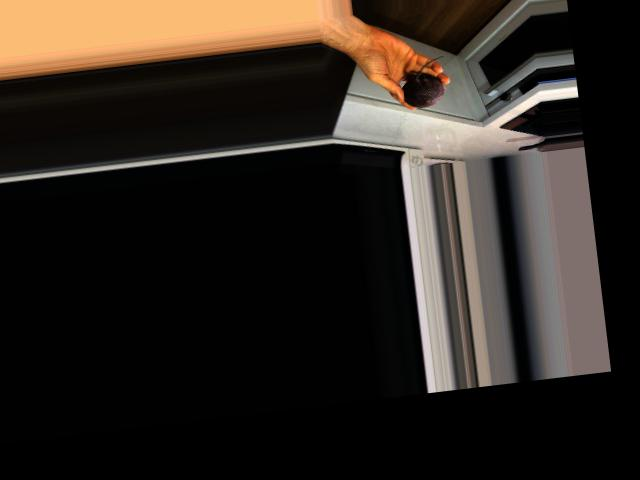beet: (399, 55, 450, 109)
